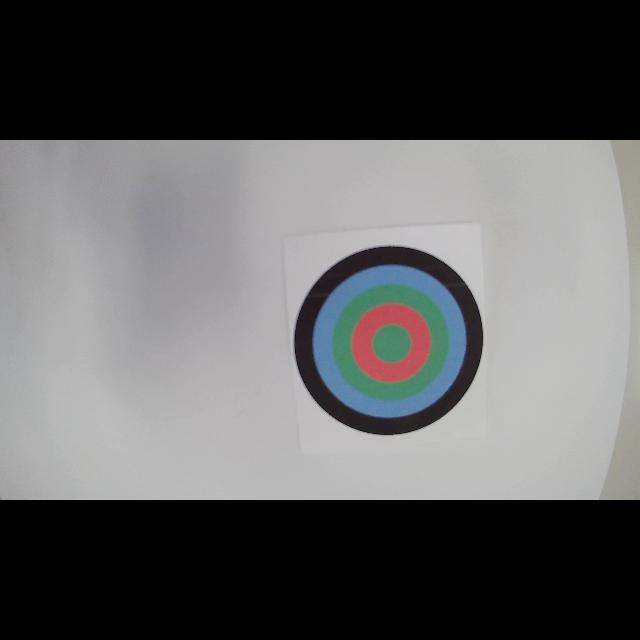COGNITIVE: (294, 246, 484, 437)
